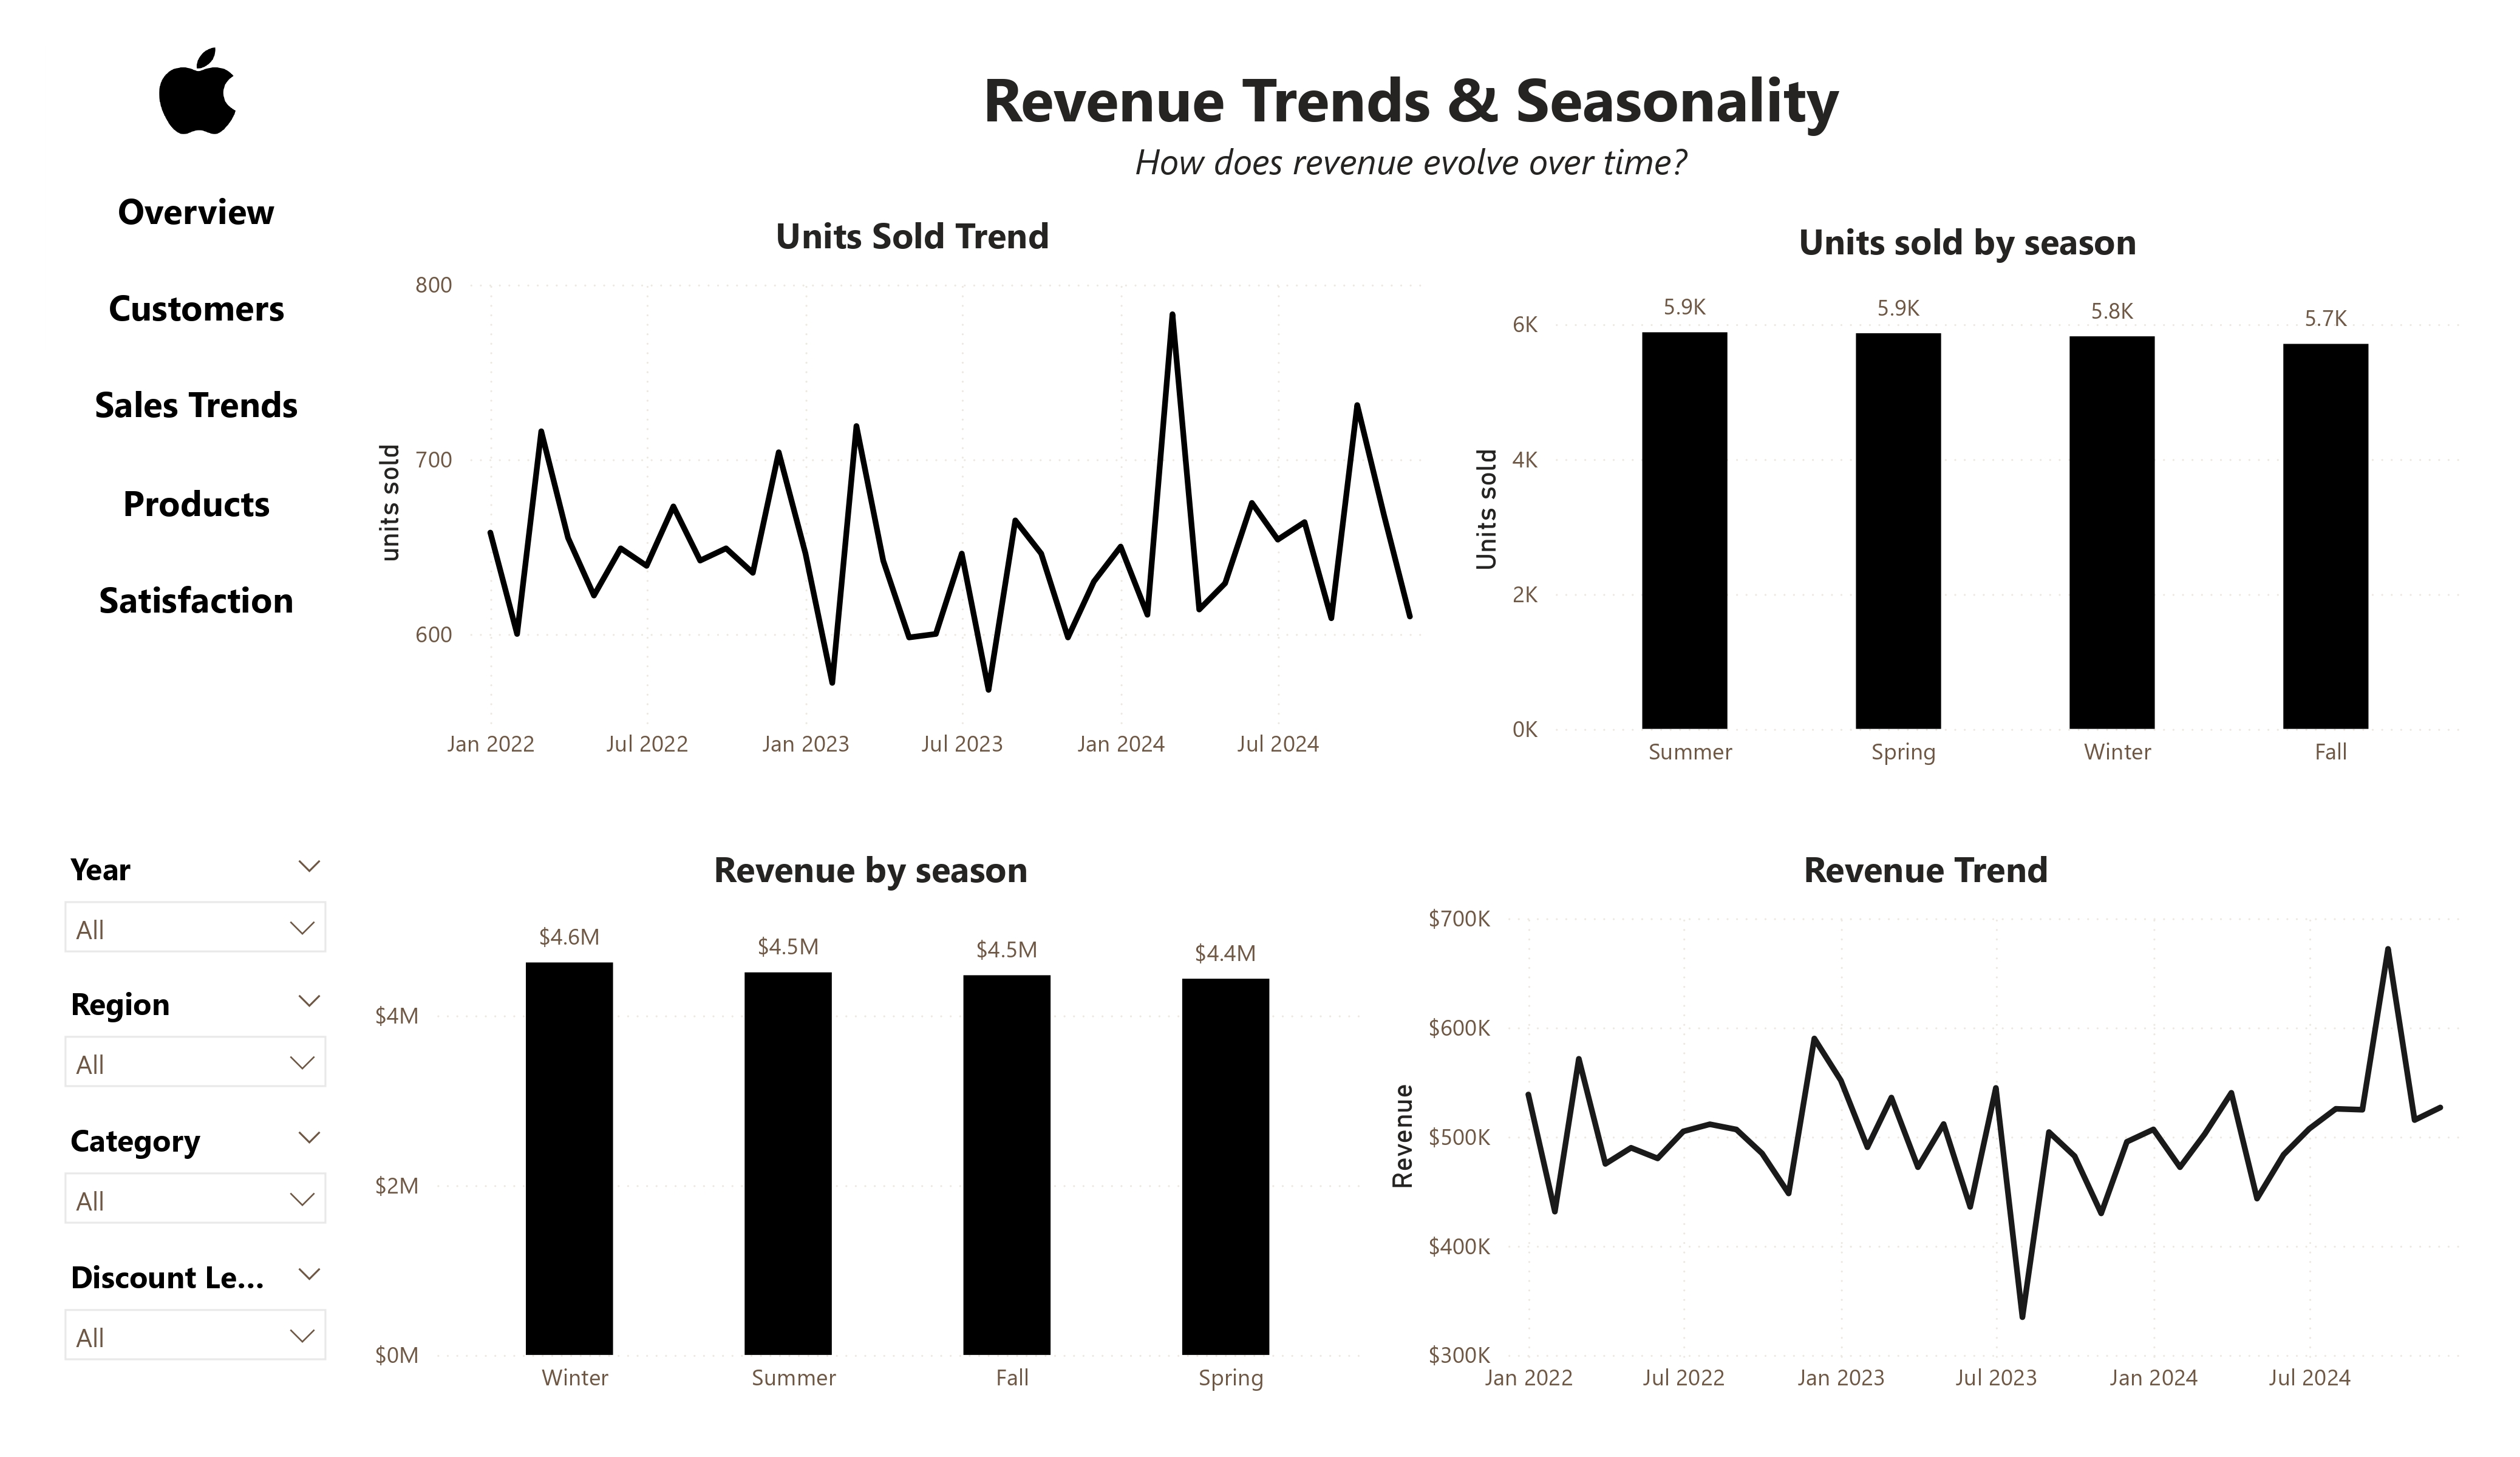

This screenshot's page, from the dashboard's own definition file:
{"tool":"powerbi","page":{"name":"Sales Trends","canvas":[1280,720],"ordinal":2},"visuals":[{"type":"textbox","box":[158.9,0,1121.5,86.8],"z":0},{"type":"slicer","fields":{"Values":["public sales.year"]},"box":[0,417.9,158.5,70.8],"z":1000},{"type":"image","box":[40.6,0,77.8,51.8],"z":2000},{"type":"slicer","fields":{"Values":["public customers.region"]},"box":[0,488.7,158.5,72],"z":3000},{"type":"slicer","fields":{"Values":["public products.category"]},"box":[0,560.8,158.5,72],"z":4000},{"type":"slicer","fields":{"Values":["public sales.discount_level"]},"box":[0,632.8,158.5,72],"z":5000},{"type":"lineChart","title":"Revenue Trend","fields":{"Y":["Sum(Sales.revenue_usd)"],"Category":["Sales.sale_date.Variation.Date Hierarchy.Year","Sales.sale_date.Variation.Date Hierarchy.Month"]},"box":[701.9,420.7,578.4,299.6],"z":6000},{"type":"actionButton","box":[0,60.9,158.9,51.8],"z":7000},{"type":"actionButton","box":[0,112.7,158.9,50.7],"z":8000},{"type":"actionButton","box":[0,163.4,158.9,51.8],"z":9000},{"type":"actionButton","box":[0,215.3,158.9,50.7],"z":10000},{"type":"actionButton","box":[0,266,158.9,51.8],"z":11000},{"type":"columnChart","fields":{"Category":["Sales.season"],"Y":["Sum(Sales.revenue_usd)"]},"box":[167.5,420.7,534.4,299.6],"z":12000},{"type":"lineChart","title":"Units Sold Trend","fields":{"Category":["Sales.sale_date.Variation.Date Hierarchy.Year","Sales.sale_date.Variation.Date Hierarchy.Month"],"Y":["Sum(Sales.units_sold)"]},"box":[167.5,86.8,578.4,299.6],"z":13000},{"type":"columnChart","fields":{"Category":["Sales.season"],"Y":["Sum(Sales.units_sold)"]},"box":[745.9,90.5,534.4,299.6],"z":14000}]}

Visuals, with their boxes on the page's 1280x720 design canvas (x1, y1, x2, y2). These are canvas units, not pixel positions in the 2520x1457 screenshot, which may show the page scaled, cropped or inside an application window:
textbox: <box>159,0,1280,87</box>
slicer - public sales.year: <box>0,418,158,489</box>
image: <box>41,0,118,52</box>
slicer - public customers.region: <box>0,489,158,561</box>
slicer - public products.category: <box>0,561,158,633</box>
slicer - public sales.discount_level: <box>0,633,158,705</box>
"Revenue Trend" lineChart: <box>702,421,1280,720</box>
actionButton: <box>0,61,159,113</box>
actionButton: <box>0,113,159,163</box>
actionButton: <box>0,163,159,215</box>
actionButton: <box>0,215,159,266</box>
actionButton: <box>0,266,159,318</box>
columnChart - Sales.season x Sum(Sales.revenue_usd): <box>168,421,702,720</box>
"Units Sold Trend" lineChart: <box>168,87,746,386</box>
columnChart - Sales.season x Sum(Sales.units_sold): <box>746,90,1280,390</box>
